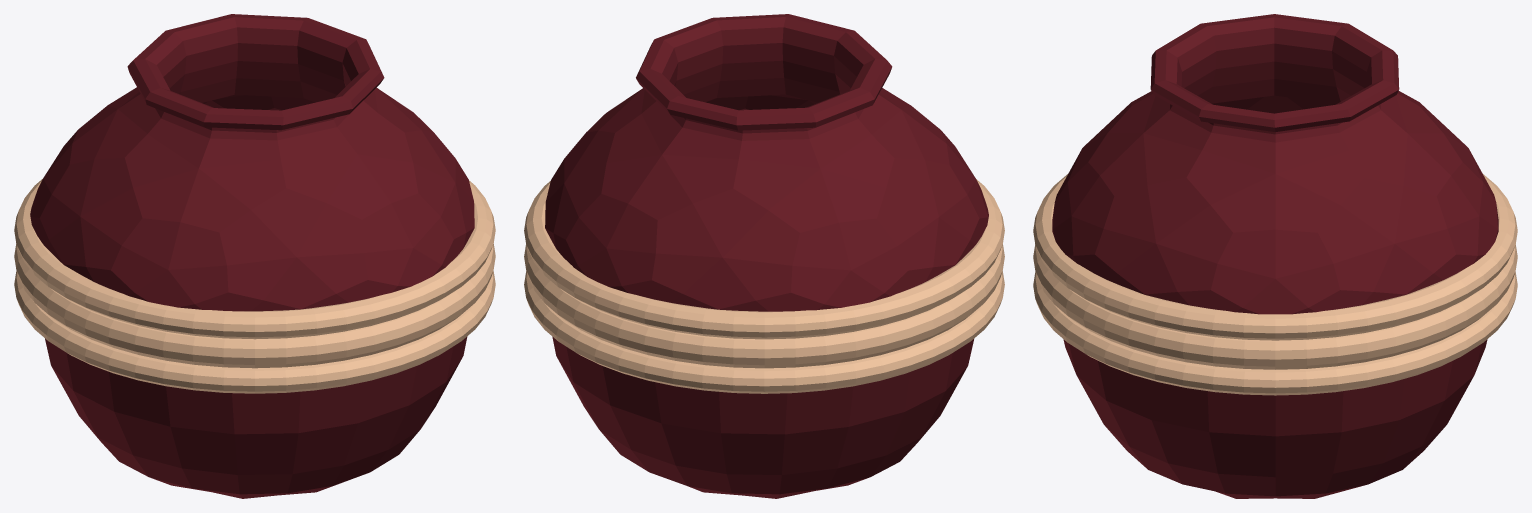
Rendered from Pots_type_1.fbx.
3 views of the same model, side by side, from view 1: azimuth 30°, elevation 25°; view 2: azimuth 150°, elevation 25°; view 3: azimuth 270°, elevation 25° (orthographic).
Parts seen in each view (by area): view 1: Box_rond_3; view 2: Box_rond_3; view 3: Box_rond_3.
Boxes of the visible parts, <box> form: Box_rond_3: <box>14,14,495,498</box>; Box_rond_3: <box>524,14,1004,498</box>; Box_rond_3: <box>1033,14,1517,498</box>.
Size of the model in its own units: 64.88 by 58.9 by 64.88.
